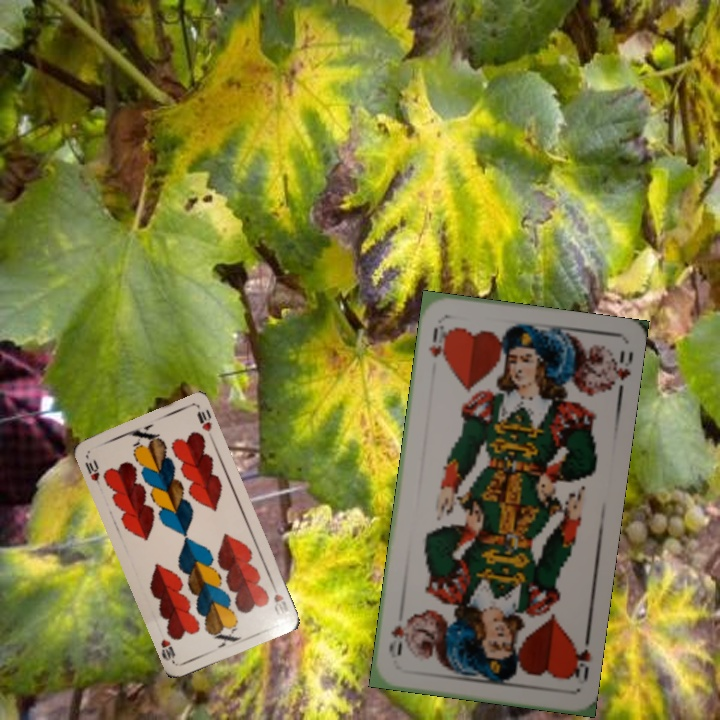H10: (267, 579, 291, 617), (81, 455, 103, 491)
HO: (564, 638, 594, 687), (425, 321, 452, 364)
